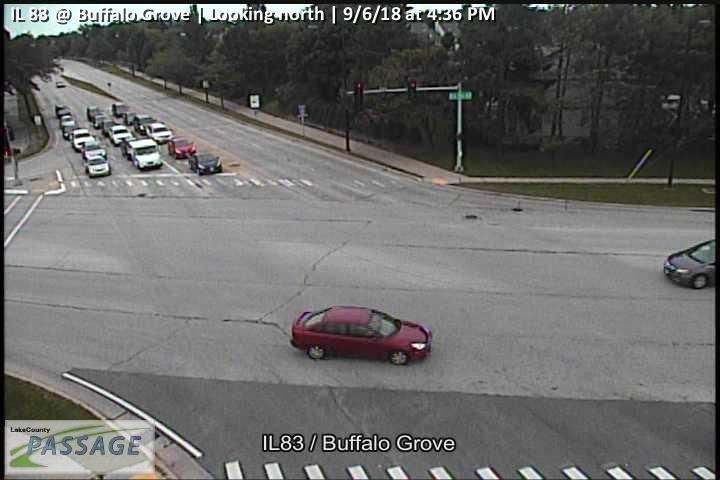SUV: (125, 138, 163, 170), (167, 137, 197, 160), (145, 122, 174, 145), (69, 128, 97, 151), (108, 123, 133, 147), (82, 140, 107, 162), (133, 114, 156, 136)
Sedan: (290, 305, 432, 364), (188, 153, 223, 175), (85, 154, 111, 178)
